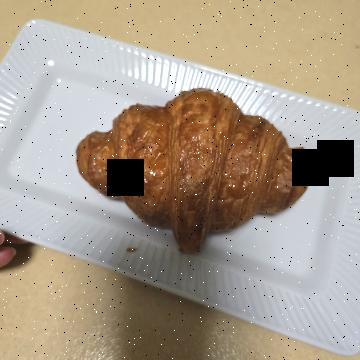croissant: (79, 36, 275, 302)
